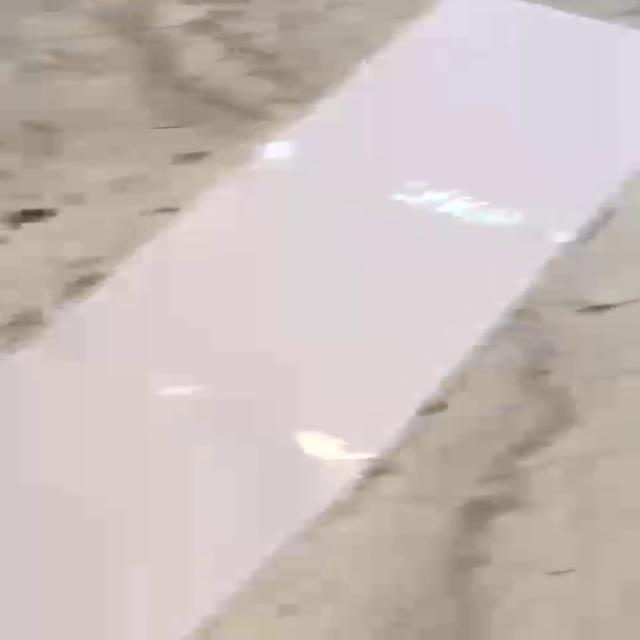road: (3, 0, 640, 640)
